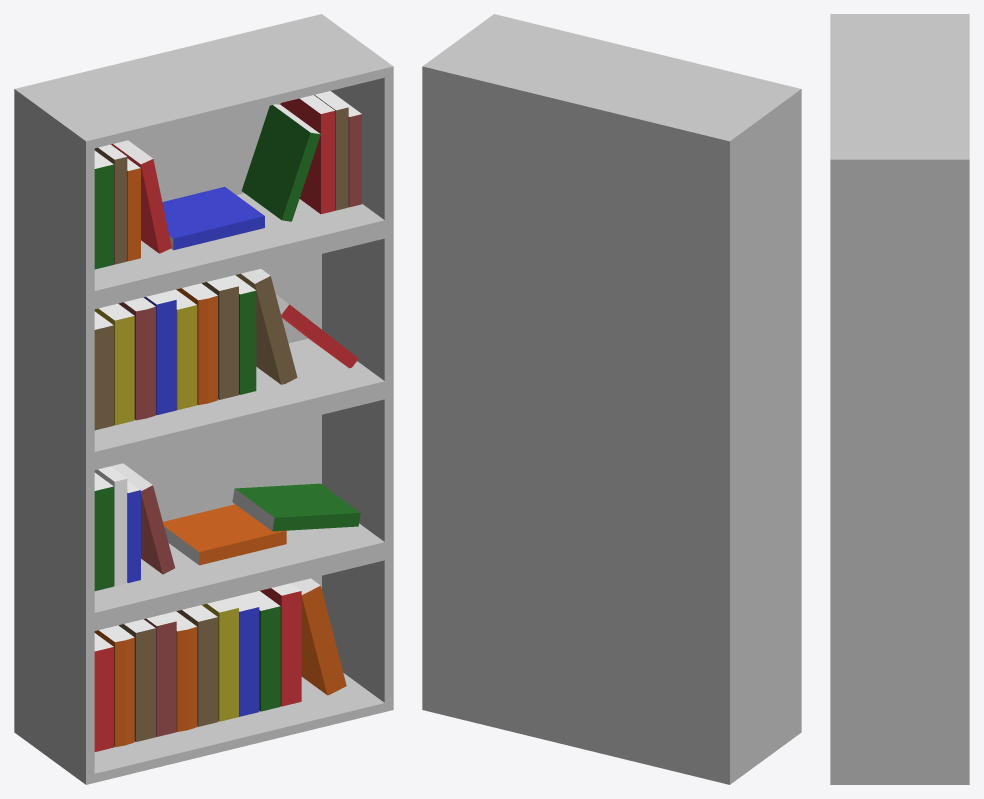
File: bookshelfv3.glb
3 views of the same model, side by side, from view 1: azimuth 30°, elevation 25°; view 2: azimuth 150°, elevation 25°; view 3: azimuth 270°, elevation 25° (orthographic). The views are drawn at different scales.
Visible parts, largest first — view 1: BookShelf03; view 2: BookShelf03; view 3: BookShelf03.
Boxes of the visible parts, bbox=[...] form: BookShelf03: bbox=[14, 14, 393, 784]; BookShelf03: bbox=[422, 14, 801, 784]; BookShelf03: bbox=[830, 14, 969, 784].
Size of the model in its own units: 4.95 by 9.91 by 2.
Materials: 1 (1 with a texture image).
